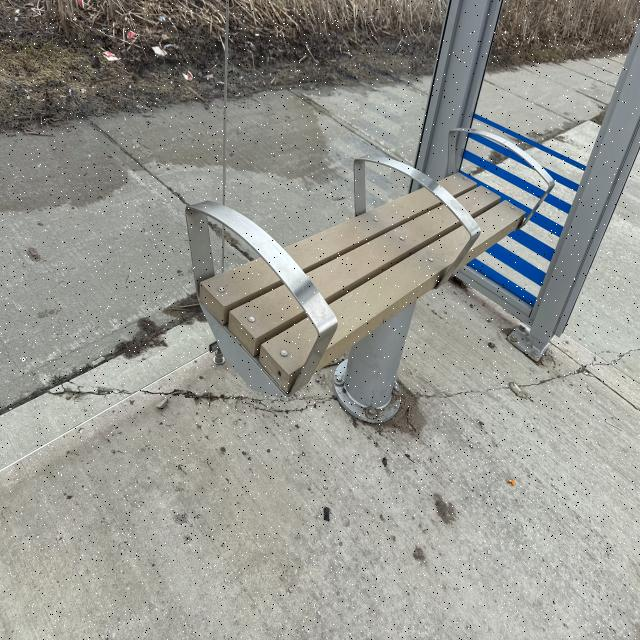Bench: (192, 130, 555, 422)
